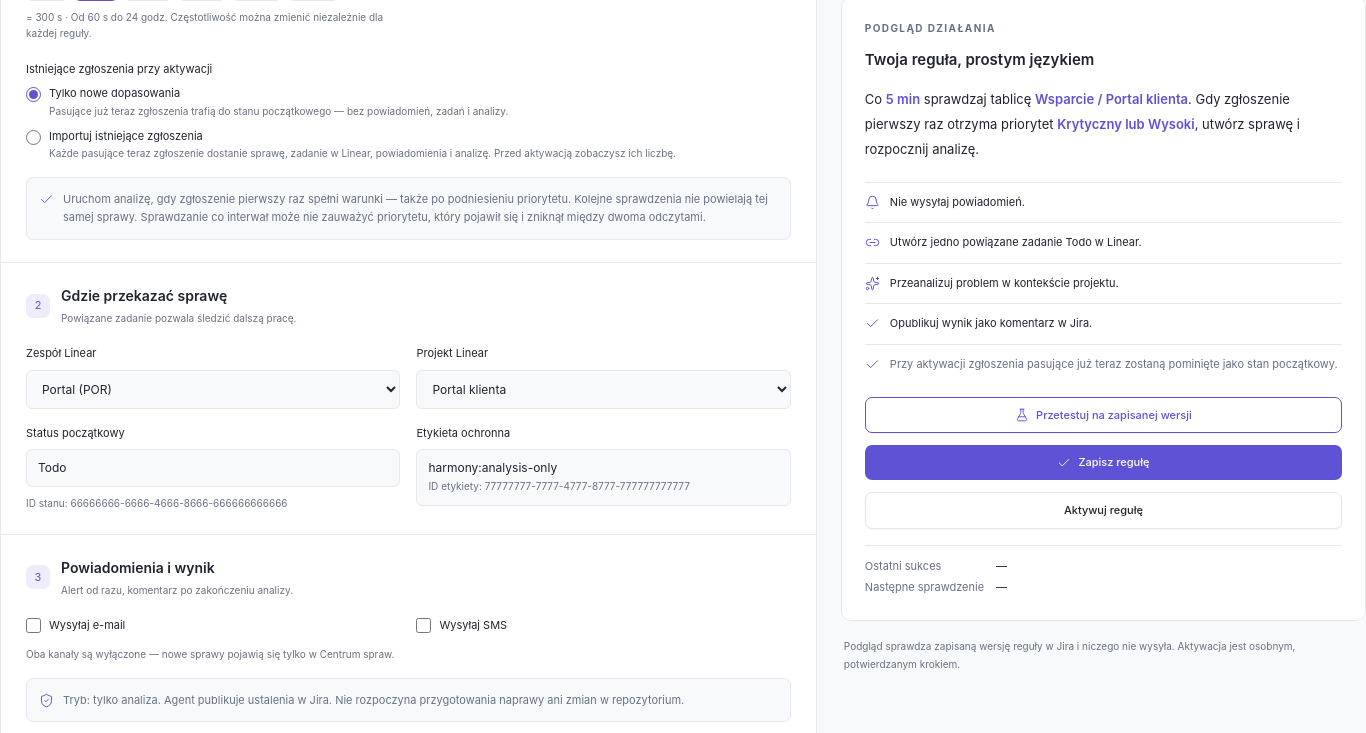
Test: T24.2 pickery Jira i Linear z jawnymi ID › Linear pokazuje stan Todo zespołu po ID, a brak Todo blokuje zapis
The image size is (1366, 733).
(page scrolled)
Select "Finanse (FIN)" in the dropdown labelled "Zespół Linear" at (213,389), box [26,370,400,408]
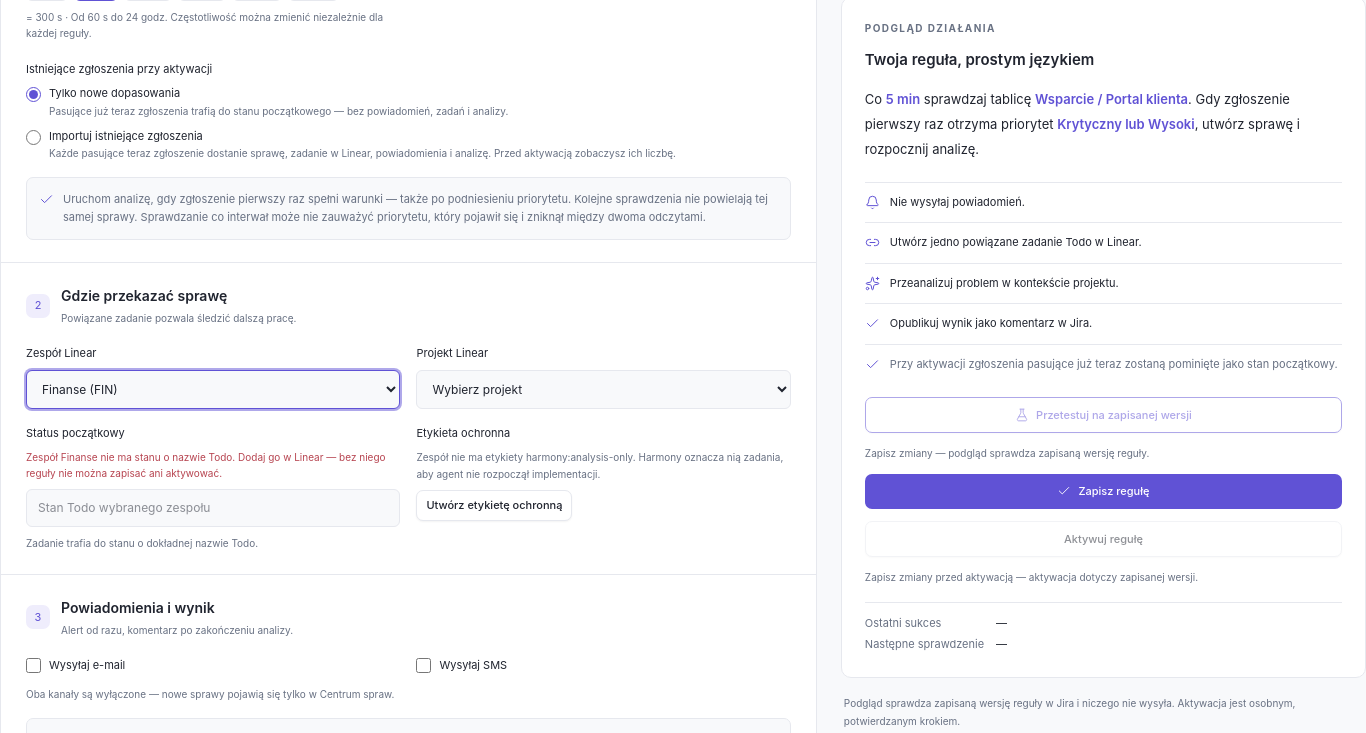
expect the text "Zespół Finanse nie ma stanu o nazwie Todo" is shown: met, box [26,449,400,481]
Click the button "Zapisz regułę".
click(1103, 491)  # box [865,474,1342,508]
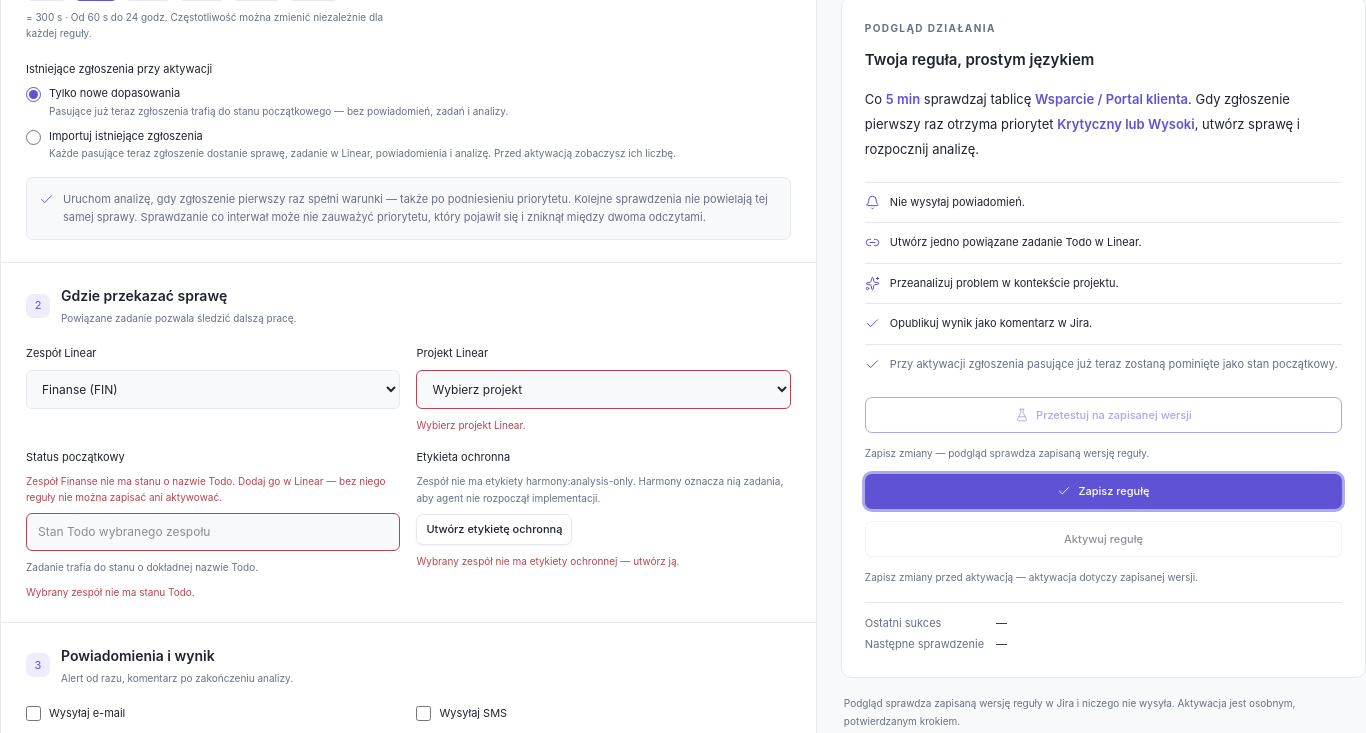
expect the text "Wybrany zespół nie ma stanu Todo." is shown: met, box [26,586,195,598]
